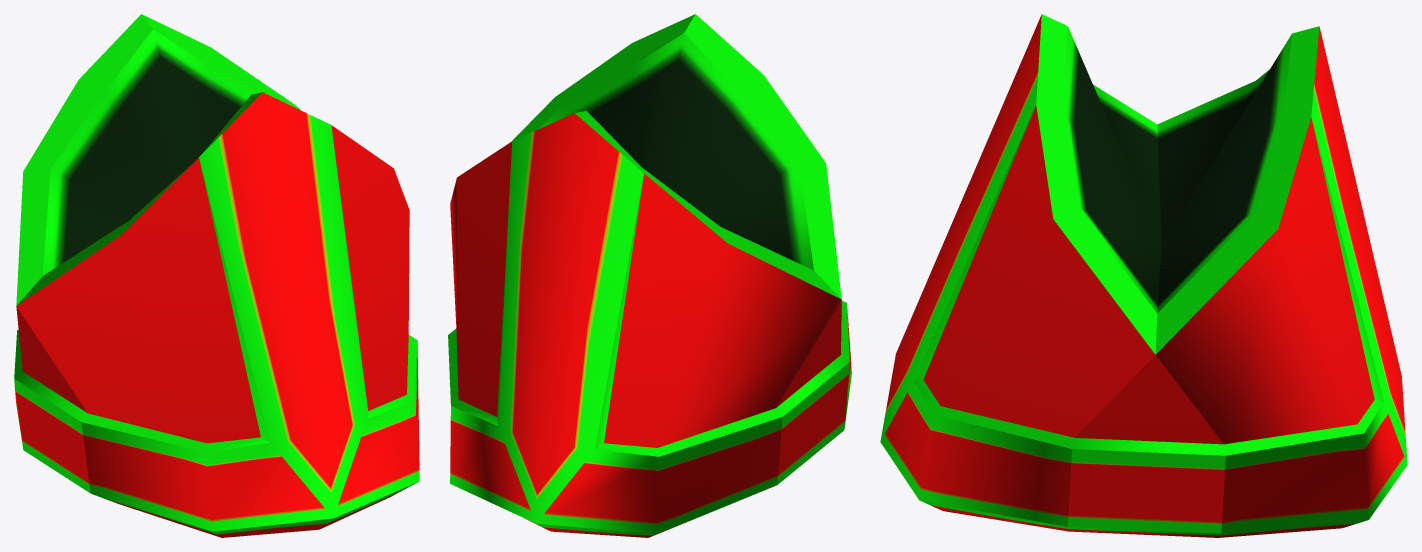
3 renders of one model, left to right at view 1: azimuth 30°, elevation 25°; view 2: azimuth 150°, elevation 25°; view 3: azimuth 270°, elevation 25°, orthographic. The views are drawn at different scales.
Parts seen in each view (by area): view 1: BishopHat; view 2: BishopHat; view 3: BishopHat.
Part boxes in pixels (x1,y1,x2,y2): BishopHat: (14,14,419,537); BishopHat: (448,14,851,537); BishopHat: (880,14,1407,537).
Bounding box in the file's own units: 0.2662 × 0.2675 × 0.2704.
1 material, 1 textured.
